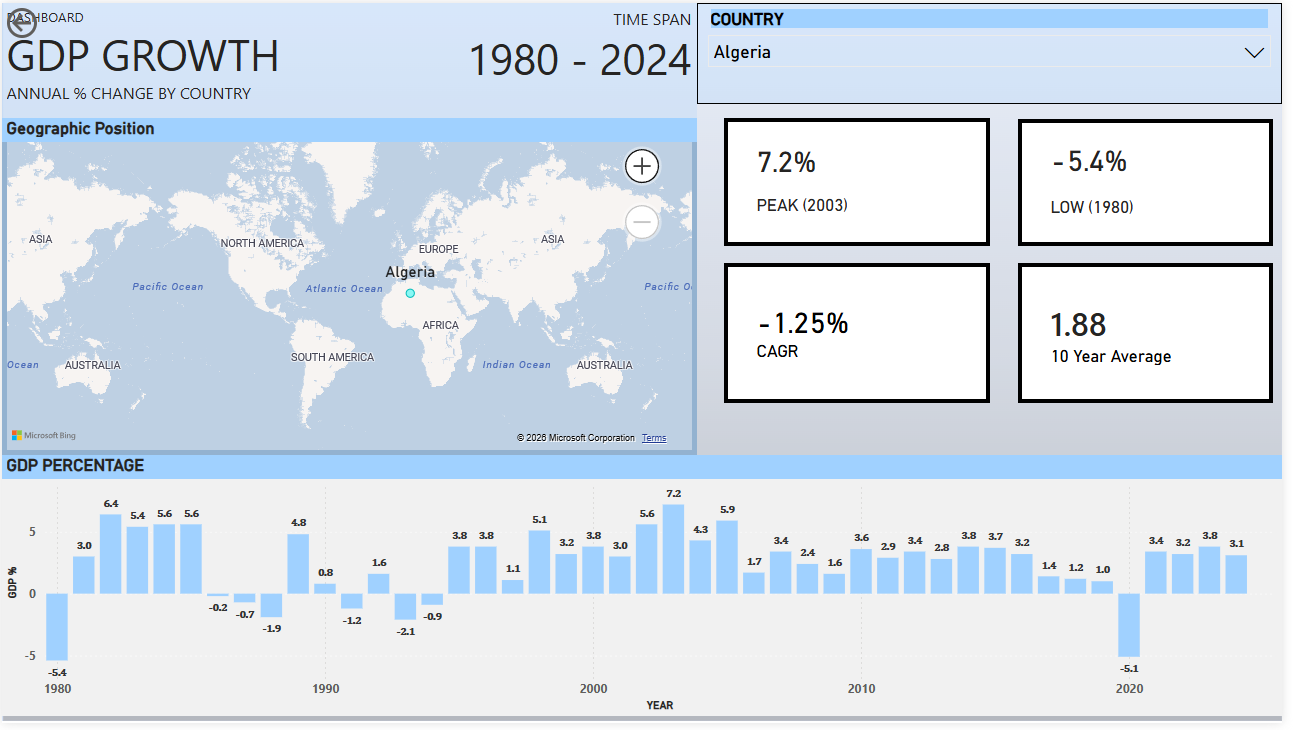

The dashboard page shown, as its layout file describes it:
{"tool":"powerbi","page":{"name":"Page 1","canvas":[1280,720],"ordinal":0},"visuals":[{"type":"map","title":"Geographic Position","fields":{"Category":["world_gdp_data.country_name"]},"box":[0,115,694.7,337.3],"z":0},{"type":"slicer","fields":{"Values":["world_gdp_data.country_name"]},"box":[695,0,585,101],"z":1000},{"type":"cardVisual","fields":{"Data":["world_gdp_data.LOW VALUE","world_gdp_data.Low Label"]},"box":[1015.8,115.9,255.6,126.7],"z":1000},{"type":"columnChart","title":"GDP PERCENTAGE","fields":{"Category":["world_gdp_data.year"],"Y":["Sum(world_gdp_data.gdp%)"]},"box":[0,452.4,1280,260.2],"z":2000},{"type":"cardVisual","fields":{"Data":["world_gdp_data.CAGR"]},"box":[722.3,259.9,265.3,139.7],"z":3000},{"type":"cardVisual","fields":{"Data":["world_gdp_data.10 Year Average"]},"box":[1015.8,259.9,255.6,139.7],"z":4000},{"type":"textbox","box":[0,0,301.6,115],"z":5000},{"type":"textbox","box":[301.6,0,393.2,115],"z":6000},{"type":"actionButton","box":[0,0,100,40],"z":6002},{"type":"cardVisual","fields":{"Data":["world_gdp_data.Peak Value","world_gdp_data.Peak Label"]},"box":[722.3,114.8,265.3,127.8],"z":6003}]}

Visuals, with their boxes in screenshot pixels (x1, y1, x2, y2), scaled from the page's 1280x720 canvas onto the 1293x730 screenshot:
"Geographic Position" map: (0, 117, 702, 459)
slicer - world_gdp_data.country_name: (702, 0, 1292, 102)
cardVisual - world_gdp_data.LOW VALUE x world_gdp_data.Low Label: (1026, 118, 1284, 246)
"GDP PERCENTAGE" columnChart: (0, 459, 1292, 722)
cardVisual - world_gdp_data.CAGR: (730, 264, 998, 405)
cardVisual - world_gdp_data.10 Year Average: (1026, 264, 1284, 405)
textbox: (0, 0, 305, 117)
textbox: (305, 0, 702, 117)
actionButton: (0, 0, 101, 41)
cardVisual - world_gdp_data.Peak Value x world_gdp_data.Peak Label: (730, 116, 998, 246)
